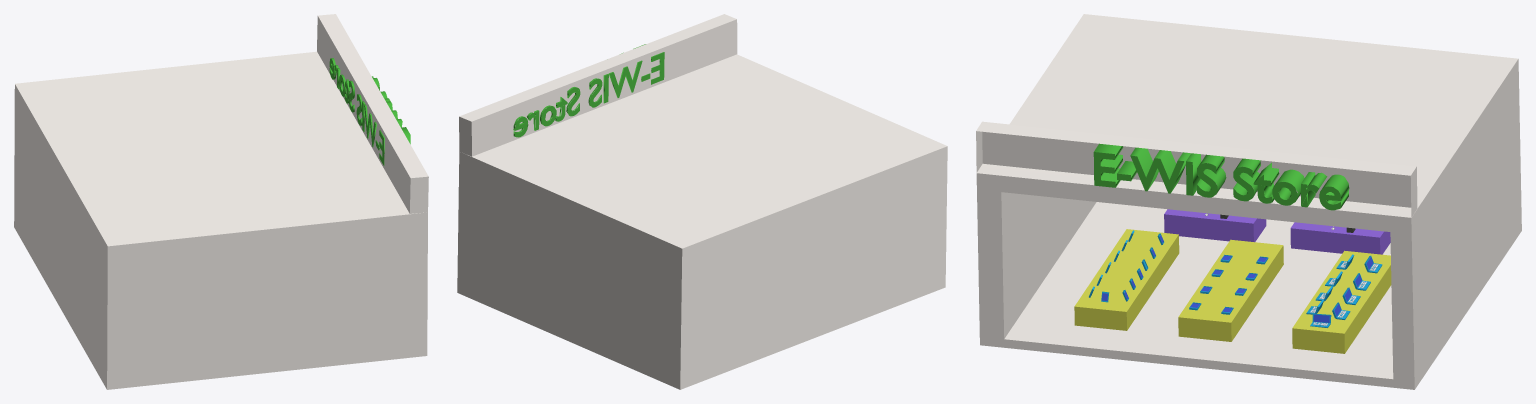
Rendered from estore.glb.
3 views of the same model, side by side, from view 1: azimuth 30°, elevation 25°; view 2: azimuth 150°, elevation 25°; view 3: azimuth 270°, elevation 25° (orthographic). The views are drawn at different scales.
Visible parts, largest first — view 1: E-wise store; view 2: E-wise store; view 3: E-wise store.
Boxes of the visible parts, left/top/right/bottom form: E-wise store: left=14, top=14, right=428, bottom=389; E-wise store: left=457, top=14, right=947, bottom=389; E-wise store: left=976, top=14, right=1521, bottom=389.
Bounding box in the file's own units: 198 × 96.89 × 216.
Materials: 1 (1 with a texture image).
